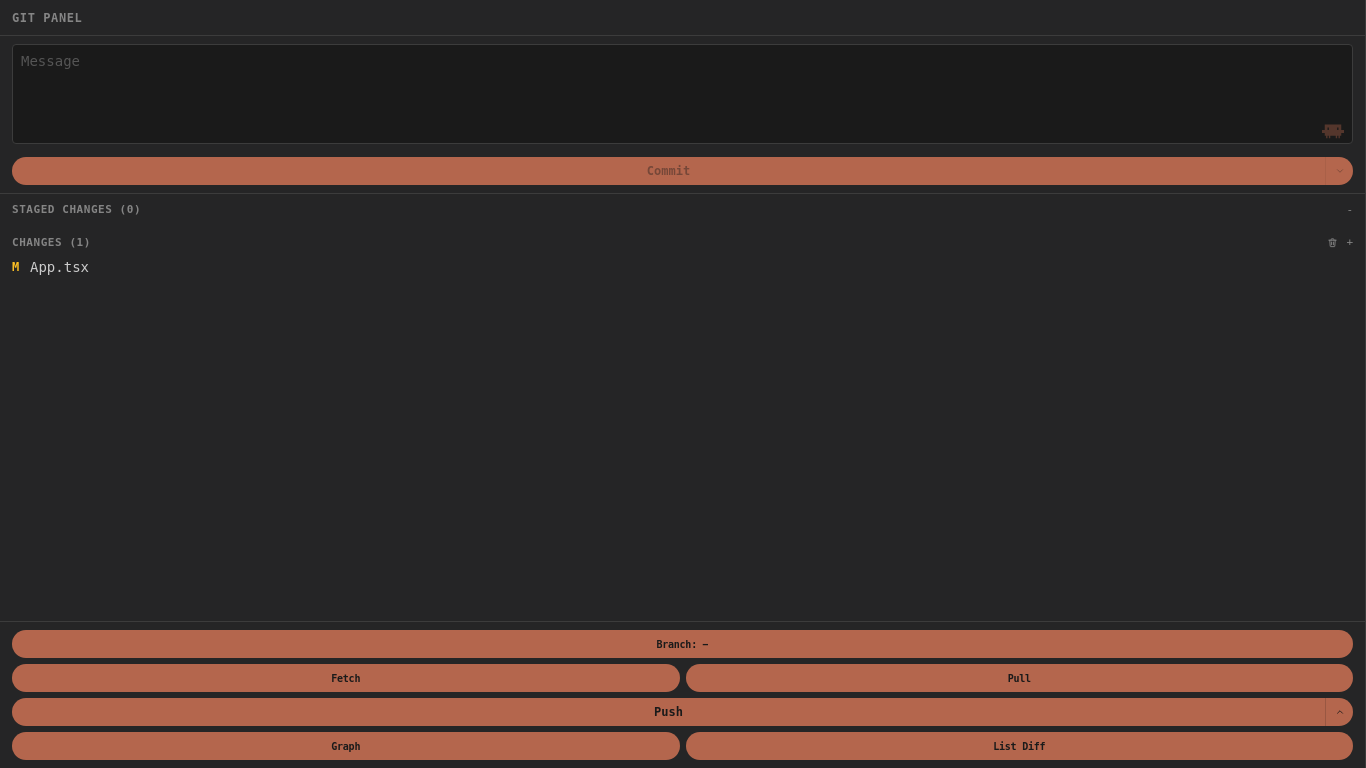
Test: GitPanel — Discard All Changes › cancel closes the modal without discarding
This screenshot has width=1366, height=768.
Click the button named "Discard All Changes" at (1333, 243), box [1327, 237, 1338, 248]
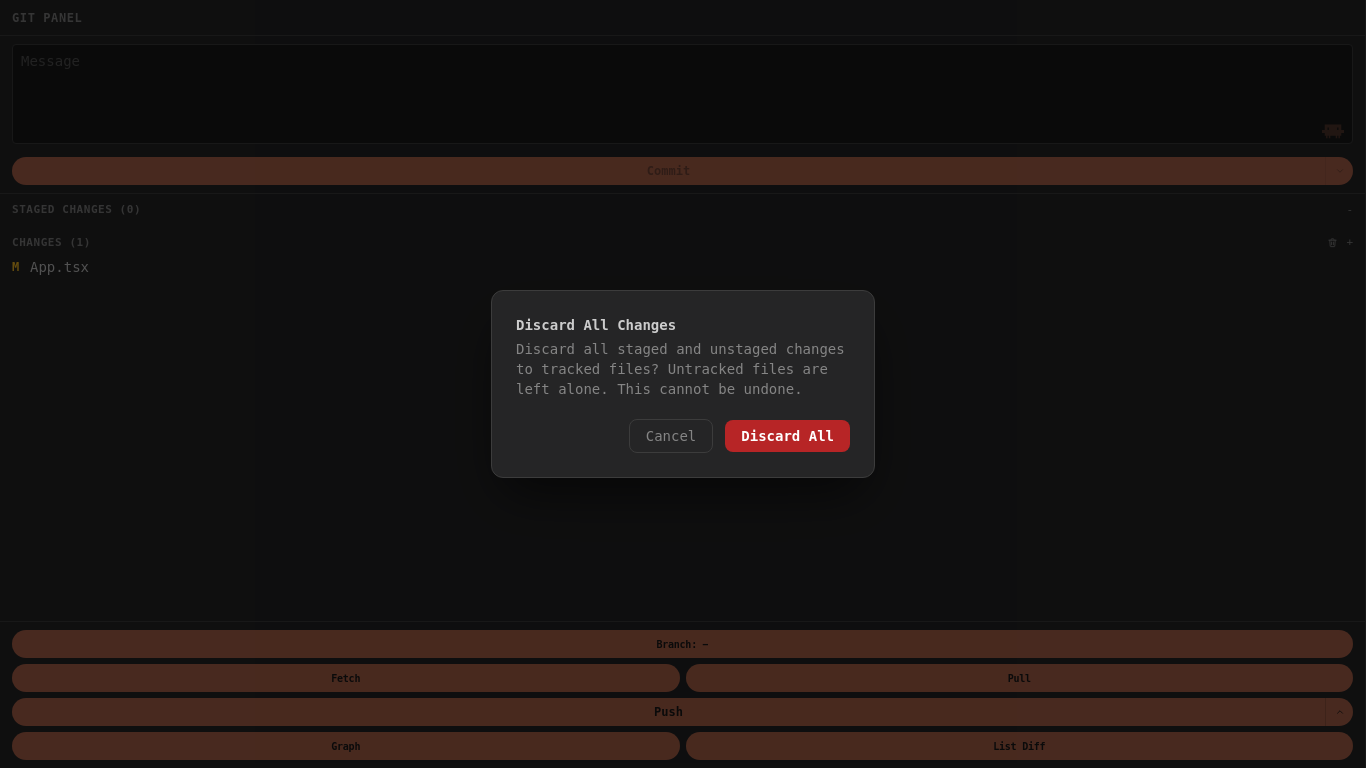
Click the button "Cancel" at (671, 436), box [629, 419, 713, 453]
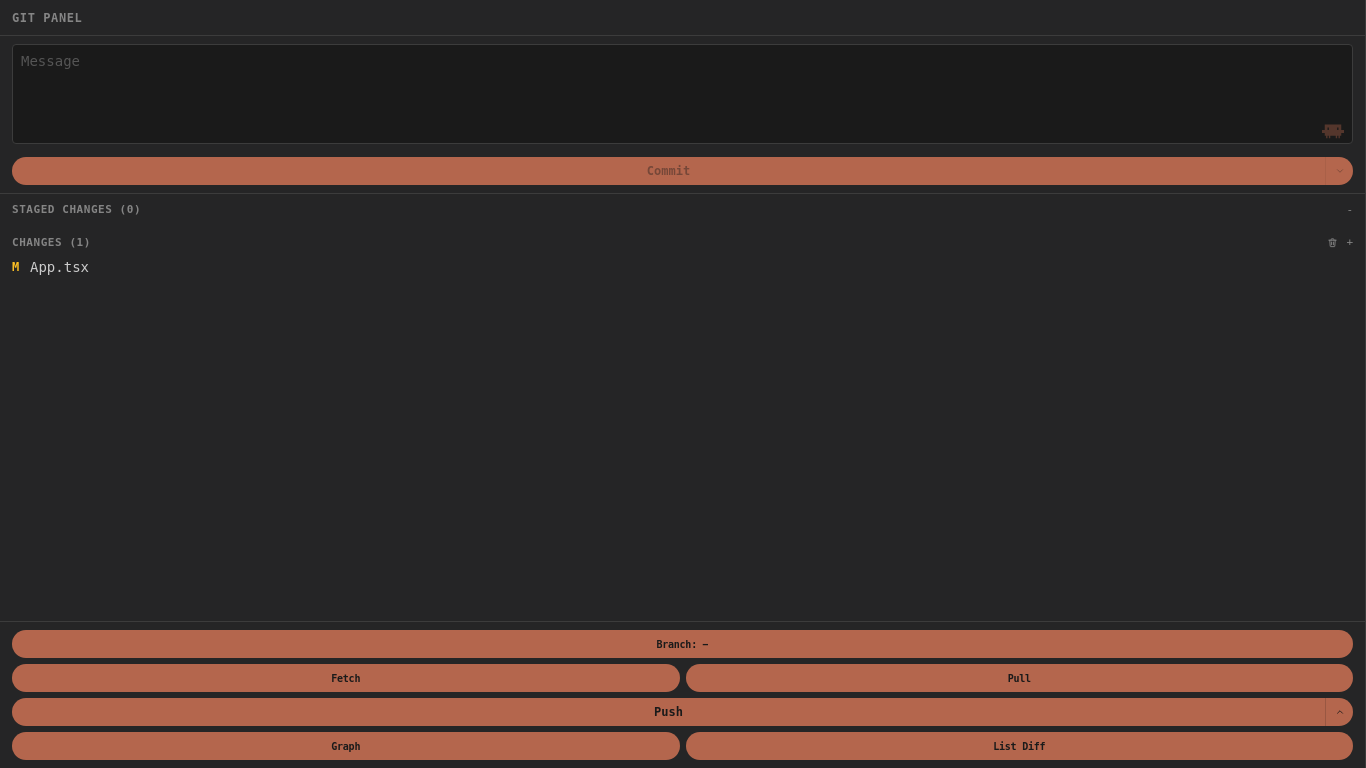
Expected: the text "Untracked files are left" is gone
